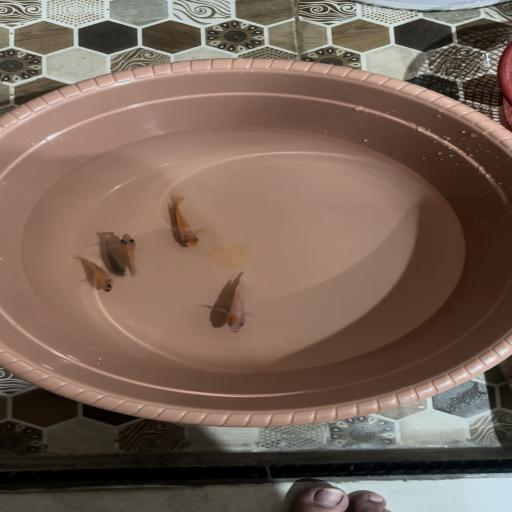nila: (206, 272, 262, 335), (163, 193, 211, 249), (114, 230, 158, 276), (88, 234, 130, 278), (72, 253, 115, 293)
